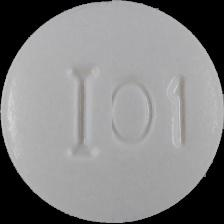50436-3138: (0, 0, 224, 224)
